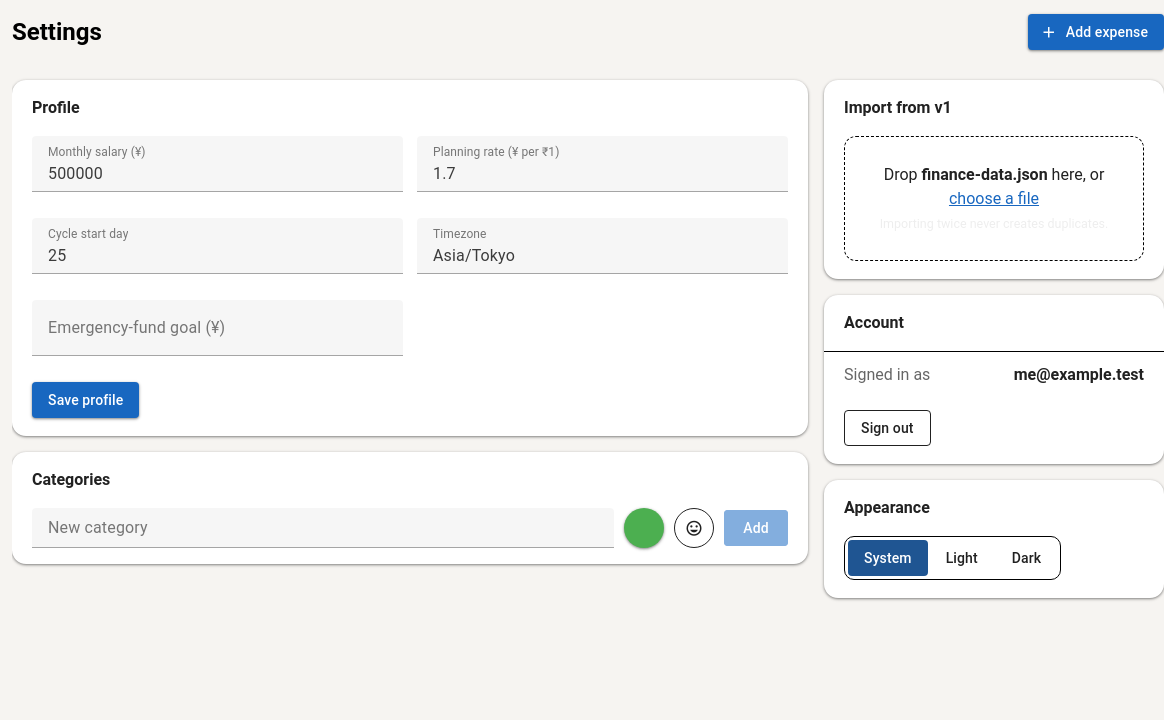
Scenario: SettingsPage emergency-fund goal field (Task 9) › shows a field error and does not save when the goal is not a valid whole yen amount
In the field with id "ef-goal": (218, 328) [32,300,403,356], type "-5"
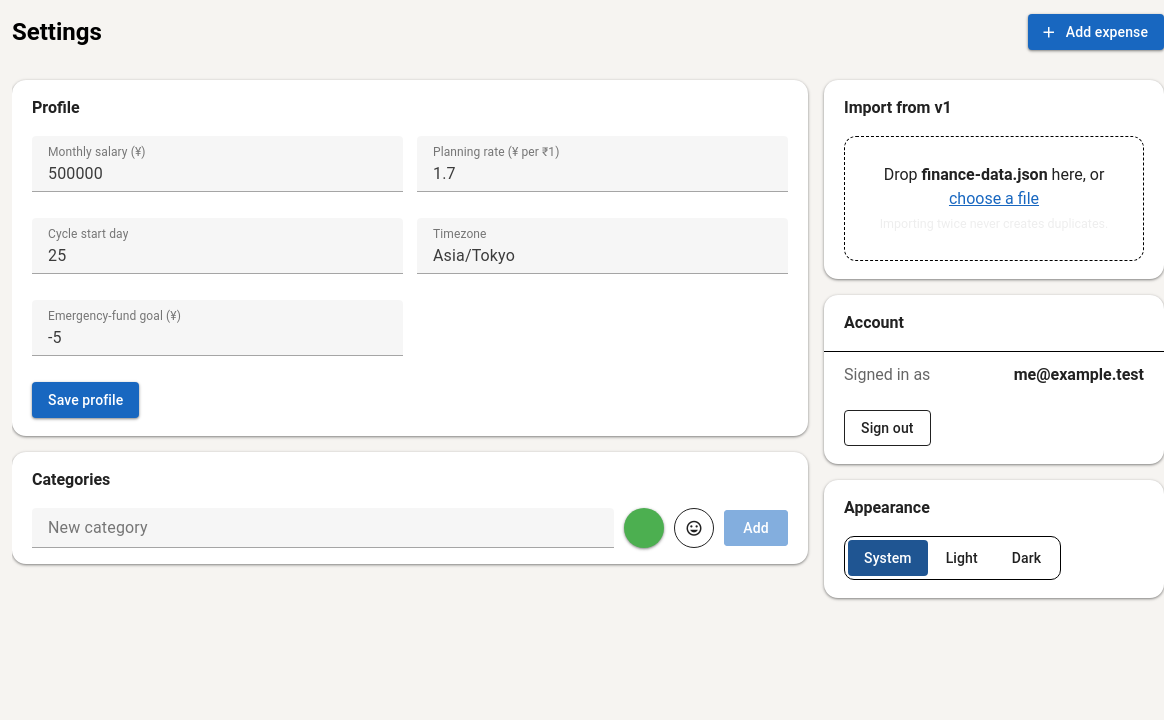
Submit the form, box [12,136,808,378]
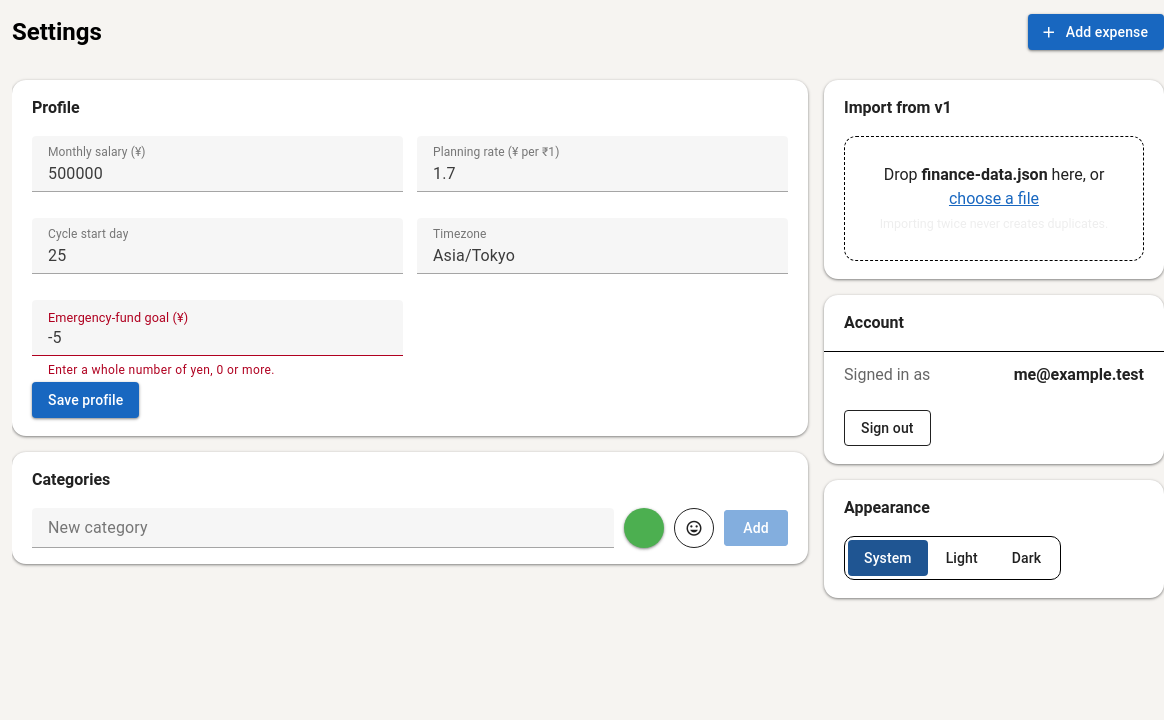
Now the text "Enter a whole number of yen, 0 or more." is shown, box [48,363,275,377]
